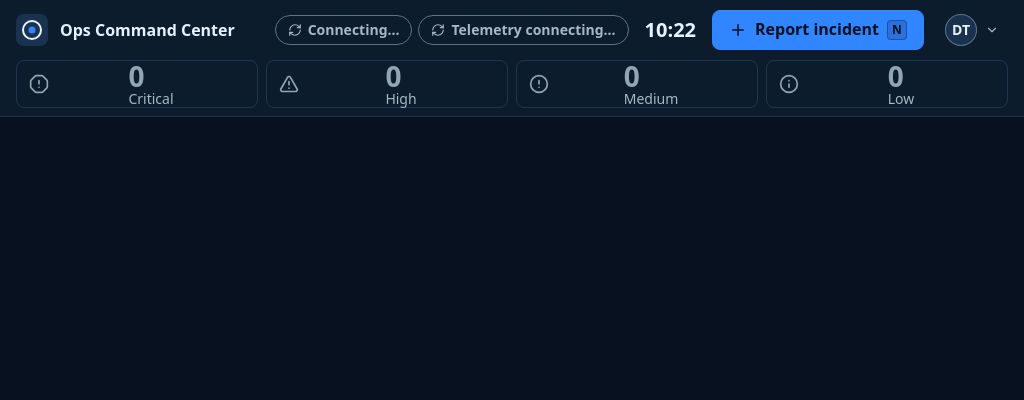
Test: Header › account menu › shows a technician's role without the view-only note
The width and height of the screenshot is (1024, 400).
Click the button named "Demo Technician" at [974, 30], box [940, 8, 1008, 52]
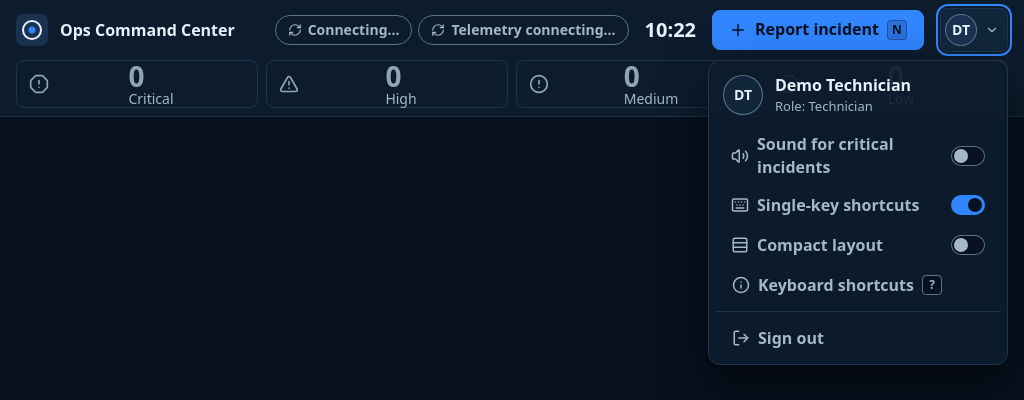
Now the text "Role: Technician" is shown, box [775, 97, 873, 115]
